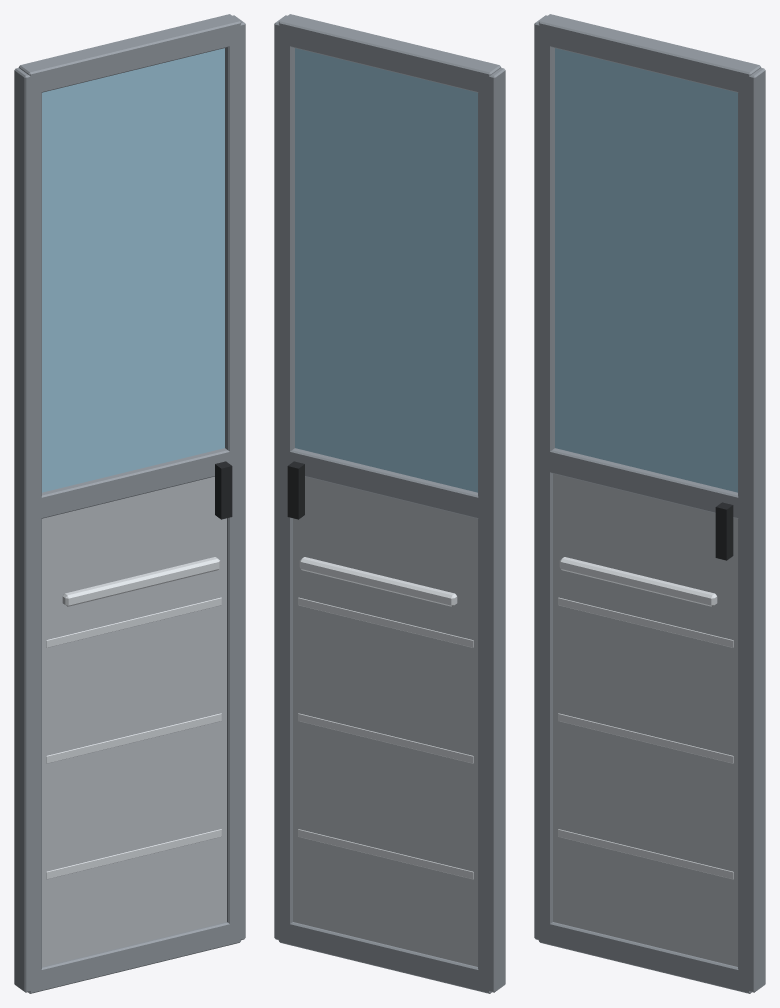
The model's file is porte_aluminium_battant.glb.
3 views of the same model, side by side, from view 1: azimuth 30°, elevation 25°; view 2: azimuth 150°, elevation 25°; view 3: azimuth 330°, elevation 25° (orthographic).
Visible parts, largest first — view 1: porte_aluminium_battant_alu.002, porte_aluminium_battant_alu_vitre.002, porte_aluminium_battant_alu_sombre.002, porte_aluminium_battant_alu_clair.002, porte_aluminium_battant_fer_noir.002; view 2: porte_aluminium_battant_alu.002, porte_aluminium_battant_alu_vitre.002, porte_aluminium_battant_alu_sombre.002, porte_aluminium_battant_alu_clair.002, porte_aluminium_battant_fer_noir.002; view 3: porte_aluminium_battant_alu.002, porte_aluminium_battant_alu_vitre.002, porte_aluminium_battant_alu_sombre.002, porte_aluminium_battant_alu_clair.002, porte_aluminium_battant_fer_noir.002.
Part boxes in pixels (box(x1,y1,x2,y2)): porte_aluminium_battant_alu.002: box(42, 476, 226, 966); porte_aluminium_battant_alu_vitre.002: box(42, 48, 224, 492); porte_aluminium_battant_alu_sombre.002: box(14, 14, 245, 993); porte_aluminium_battant_alu_clair.002: box(46, 557, 221, 879); porte_aluminium_battant_fer_noir.002: box(215, 461, 232, 519); porte_aluminium_battant_alu.002: box(293, 476, 477, 966); porte_aluminium_battant_alu_vitre.002: box(295, 48, 477, 492); porte_aluminium_battant_alu_sombre.002: box(274, 14, 505, 993); porte_aluminium_battant_alu_clair.002: box(298, 557, 473, 879); porte_aluminium_battant_fer_noir.002: box(287, 461, 304, 519); porte_aluminium_battant_alu.002: box(553, 473, 737, 966); porte_aluminium_battant_alu_vitre.002: box(555, 48, 737, 492); porte_aluminium_battant_alu_sombre.002: box(534, 14, 765, 993); porte_aluminium_battant_alu_clair.002: box(558, 557, 733, 879); porte_aluminium_battant_fer_noir.002: box(715, 502, 733, 560).
Bounding box in the file's own units: 0.5 × 1.99 × 0.11.
